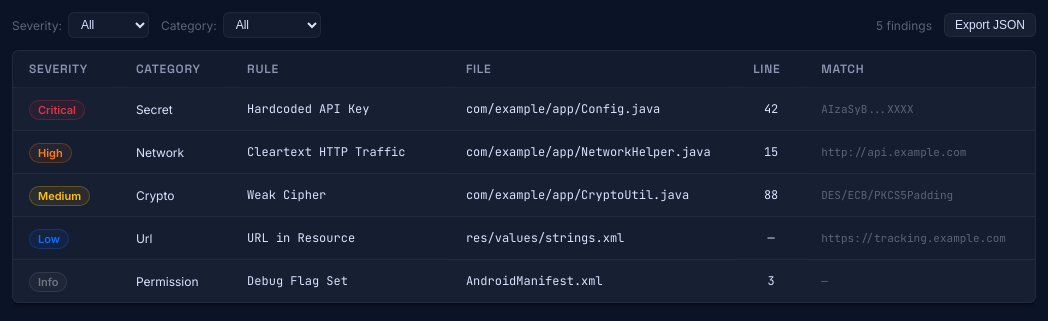
Test case: FindingsTable › filtering › filters by category (server-side)
Select "Network" in the dropdown with test id "category-filter" at (272, 25), box [223,12,321,38]
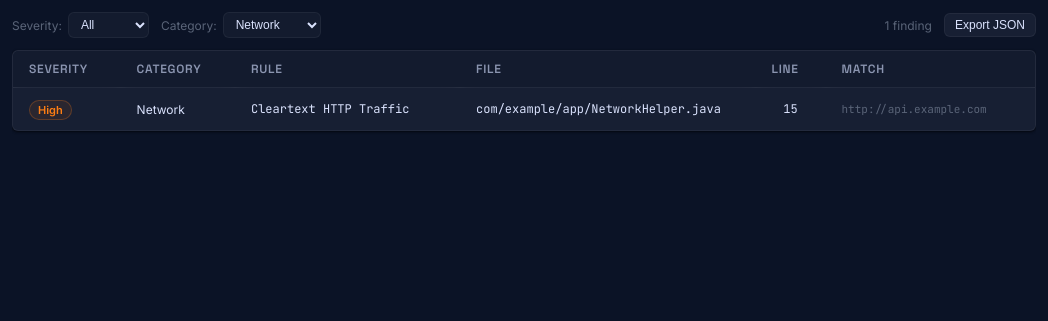
Check: the row with test id "finding-row-2" is shown, box [13,88,1035,130]
Check: the row with test id "finding-row-1" is gone
